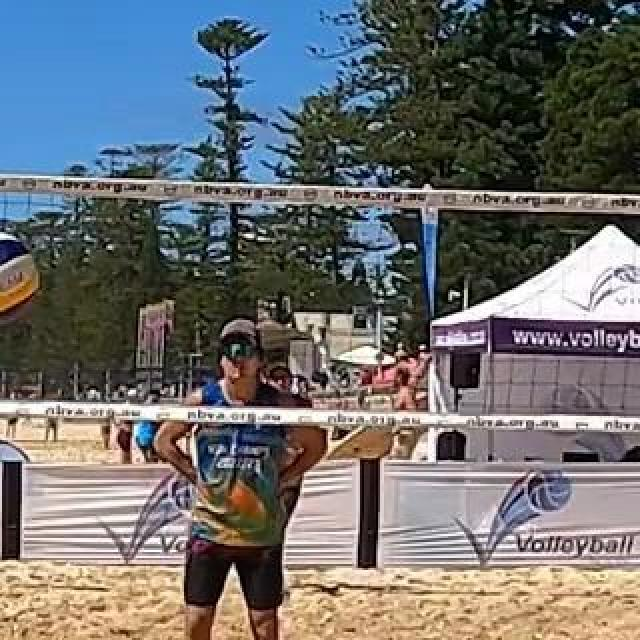volleyball: (0, 231, 40, 325)
